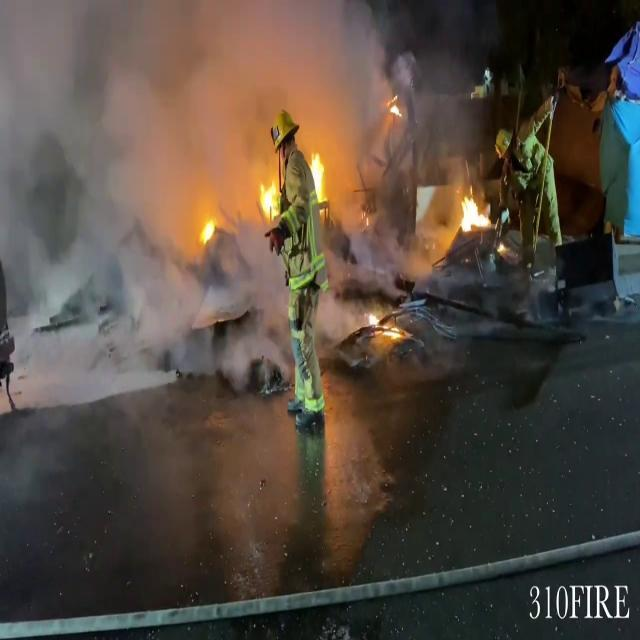Fire: (453, 186, 497, 242)
Smoke: (0, 0, 463, 354)
